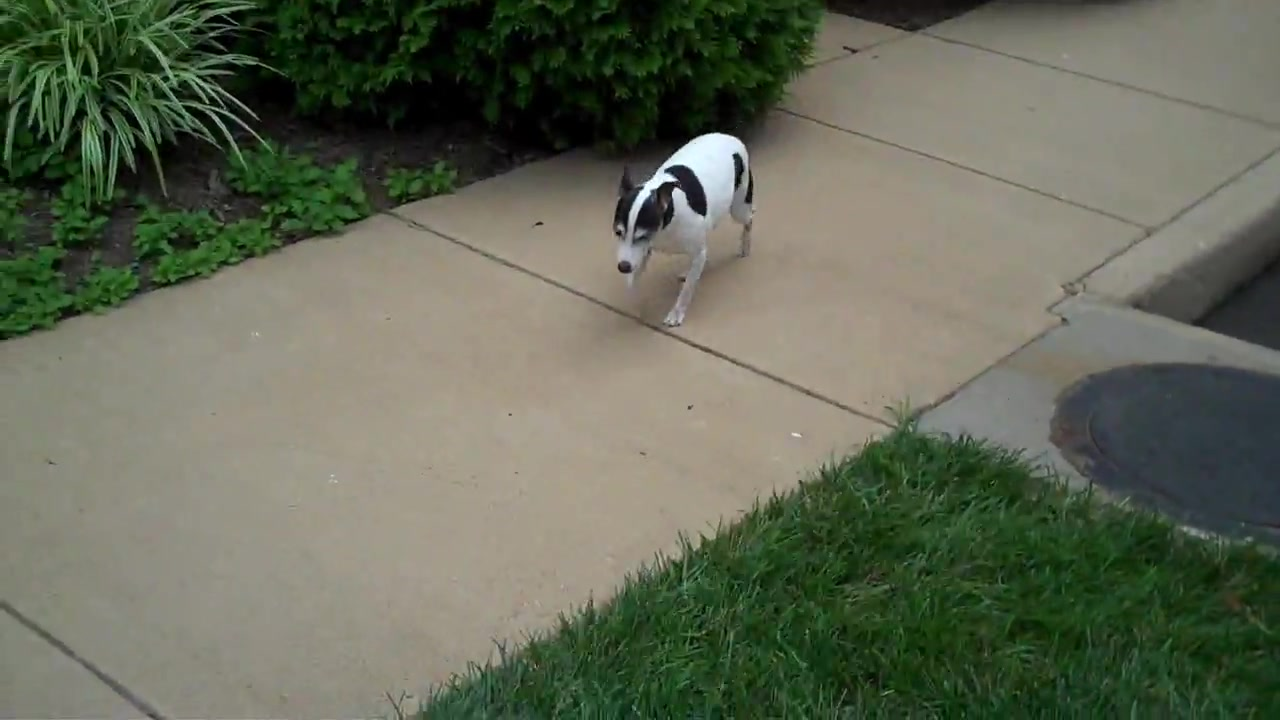dog: (609, 129, 756, 336)
